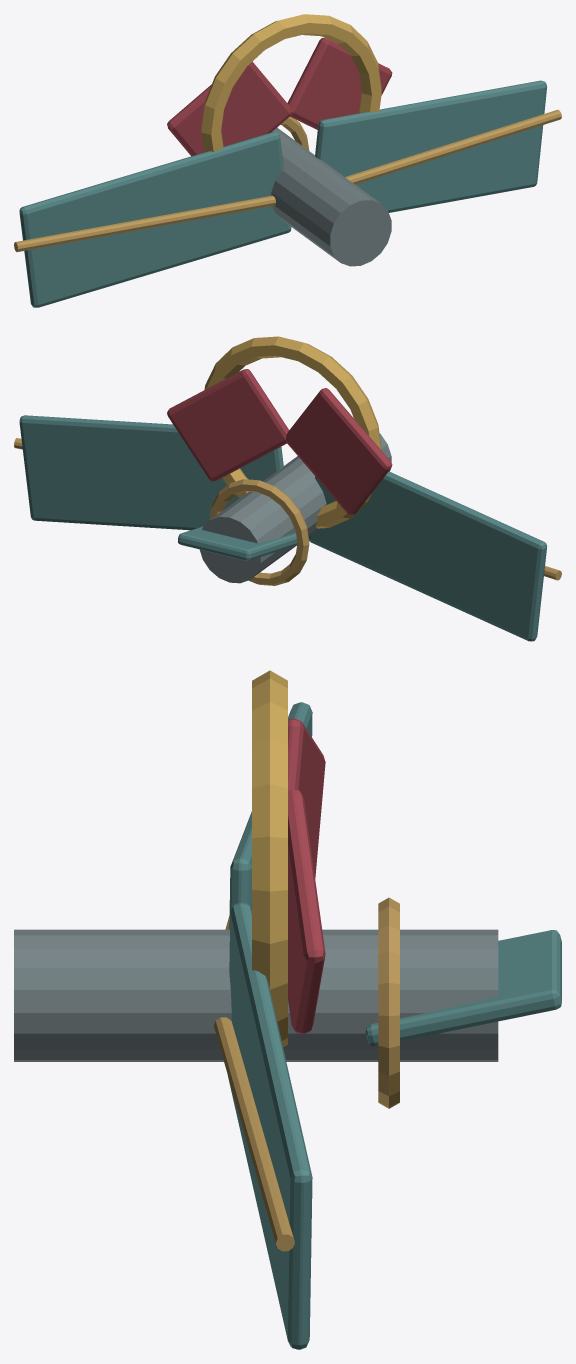
Rendered from unit-kite-swarm.glb.
3 views of the same model, one above another, from view 1: azimuth 30°, elevation 25°; view 2: azimuth 150°, elevation 25°; view 3: azimuth 270°, elevation 25° (orthographic). The views are drawn at different scales.
Parts seen in each view (by area): view 1: left articulated wing, right articulated wing, bird body, swarm command crown, signal vane, signal vane.001, wing spar, wing spar.001, rotor cage; view 2: left articulated wing, right articulated wing, signal vane.001, signal vane, bird body, swarm command crown, rotor cage, split tail; view 3: bird body, right articulated wing, swarm command crown, split tail, signal vane.001, wing spar.001, rotor cage, signal vane, left articulated wing.
Boxes of the visible parts, bbox=[...] form: left articulated wing: bbox=[19, 132, 291, 307]; right articulated wing: bbox=[315, 80, 546, 212]; bird body: bbox=[271, 127, 391, 266]; swarm command crown: bbox=[201, 14, 381, 152]; signal vane: bbox=[167, 61, 291, 156]; signal vane.001: bbox=[287, 38, 392, 129]; wing spar: bbox=[14, 195, 275, 251]; wing spar.001: bbox=[345, 109, 561, 184]; rotor cage: bbox=[280, 117, 309, 150]; left articulated wing: bbox=[308, 471, 547, 641]; right articulated wing: bbox=[19, 415, 283, 530]; signal vane.001: bbox=[167, 369, 289, 481]; signal vane: bbox=[286, 388, 392, 515]; bird body: bbox=[200, 433, 391, 583]; swarm command crown: bbox=[204, 336, 381, 528]; rotor cage: bbox=[209, 479, 309, 585]; split tail: bbox=[178, 526, 297, 560]; bird body: bbox=[14, 929, 498, 1061]; right articulated wing: bbox=[227, 902, 312, 1349]; swarm command crown: bbox=[252, 670, 287, 1047]; split tail: bbox=[365, 930, 561, 1046]; signal vane.001: bbox=[288, 789, 325, 1033]; wing spar.001: bbox=[214, 1017, 294, 1251]; rotor cage: bbox=[378, 897, 399, 1108]; signal vane: bbox=[288, 718, 325, 878]; left articulated wing: bbox=[229, 702, 312, 929].
Size of the model in its own units: 4.19 by 1.73 by 1.98.
